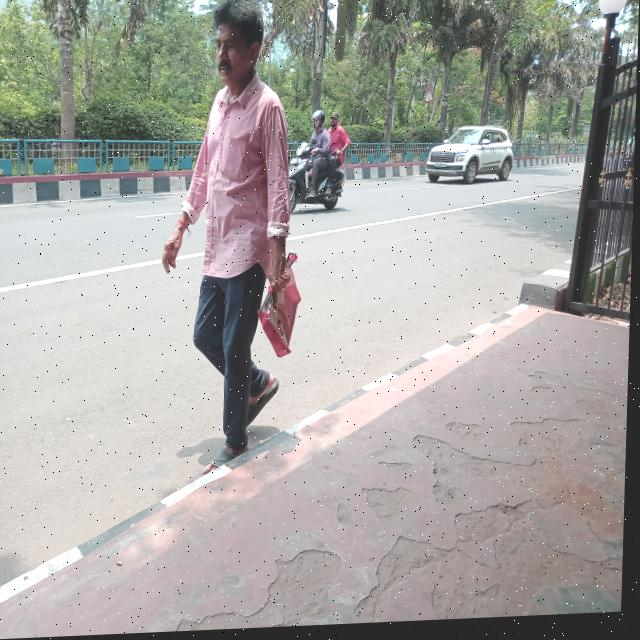bike: (287, 143, 372, 227)
car: (421, 118, 521, 201)
